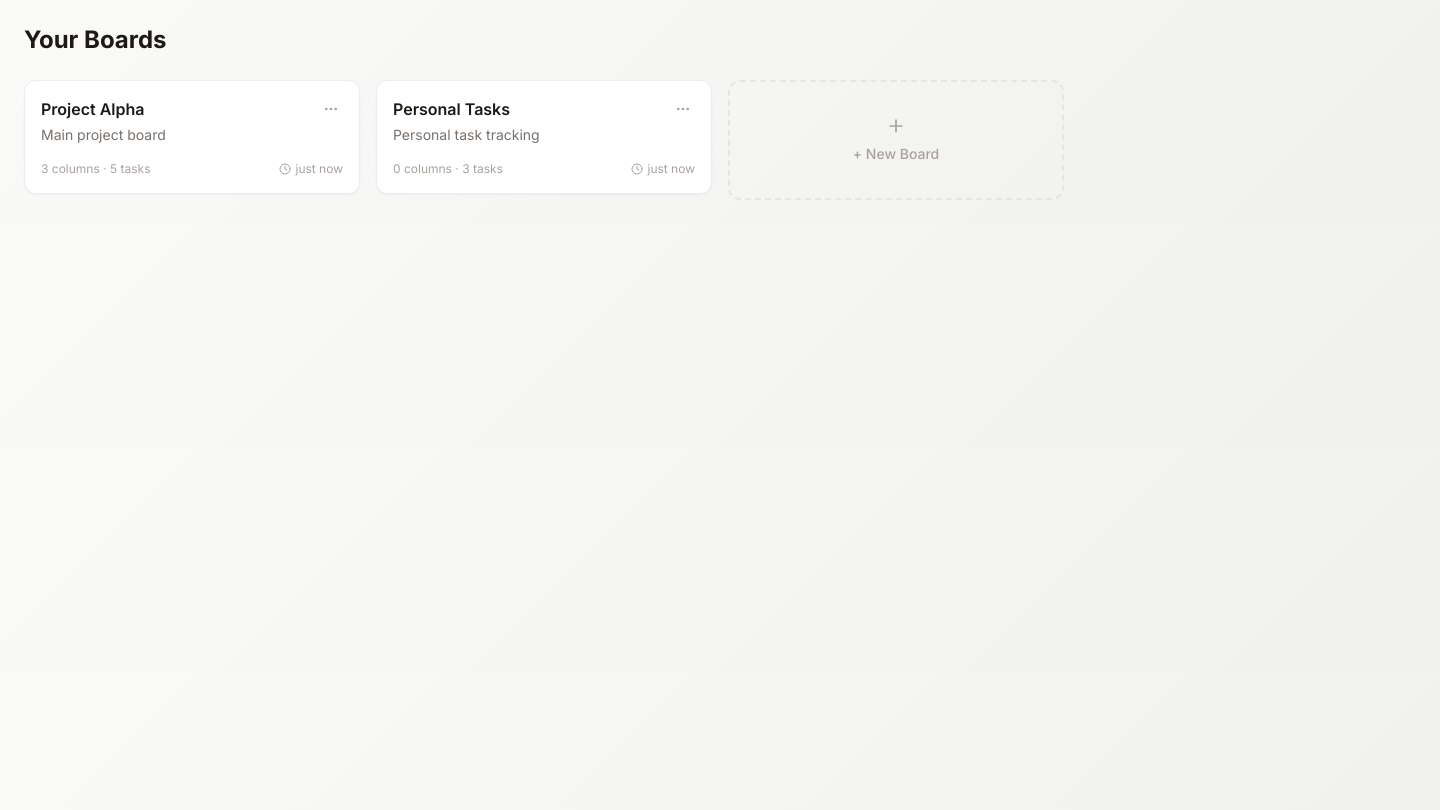
BoardList › inline board creation › creates board when form is submitted
The width and height of the screenshot is (1440, 810).
Expected: the heading "Project Alpha" is shown, 41,99 -> 144,119
Click the button with test id "ghost-card" at (896, 154), box 728,80 -> 1064,200
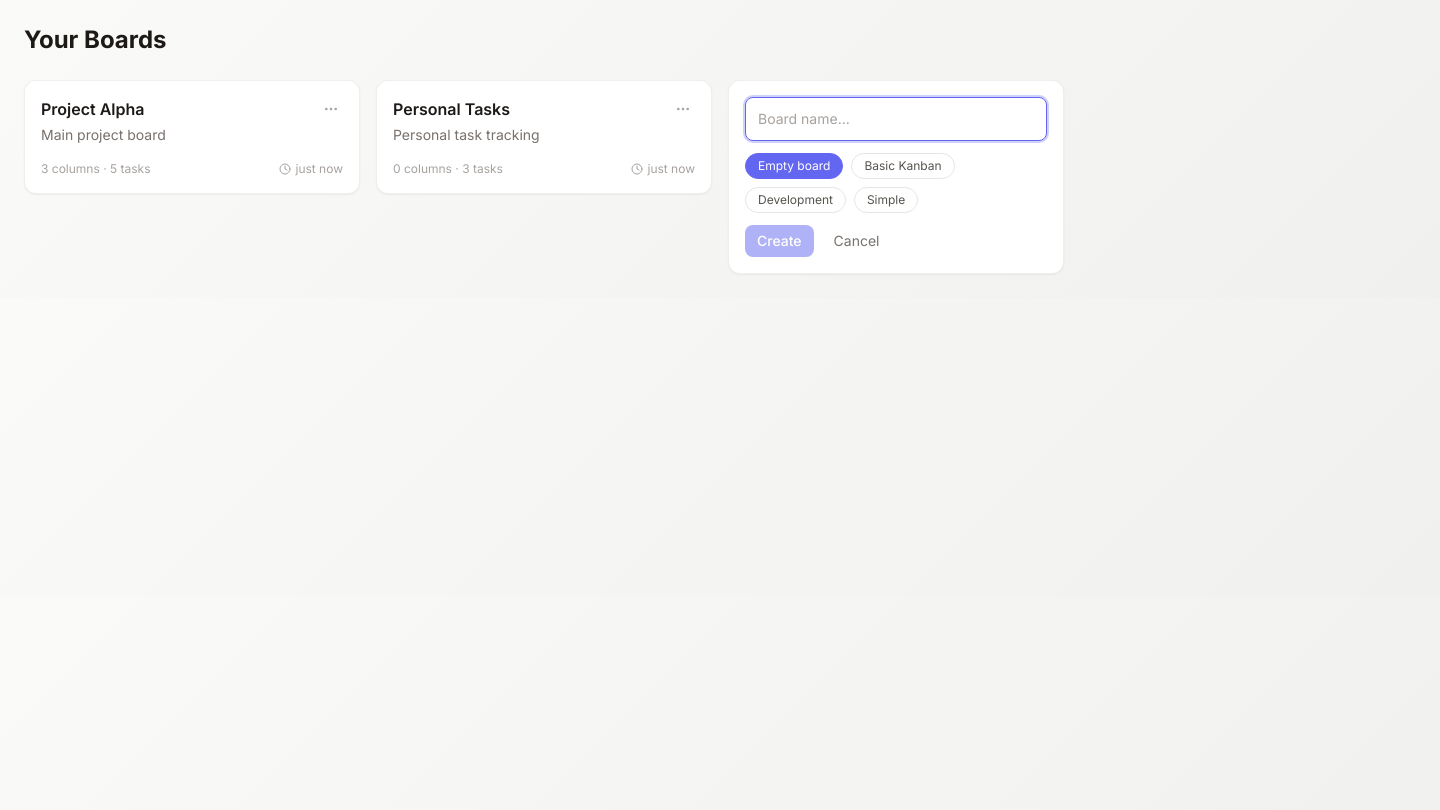
Type "New Test Board" into the field with placeholder "Board name..." at (896, 119), box 745,97 -> 1047,141
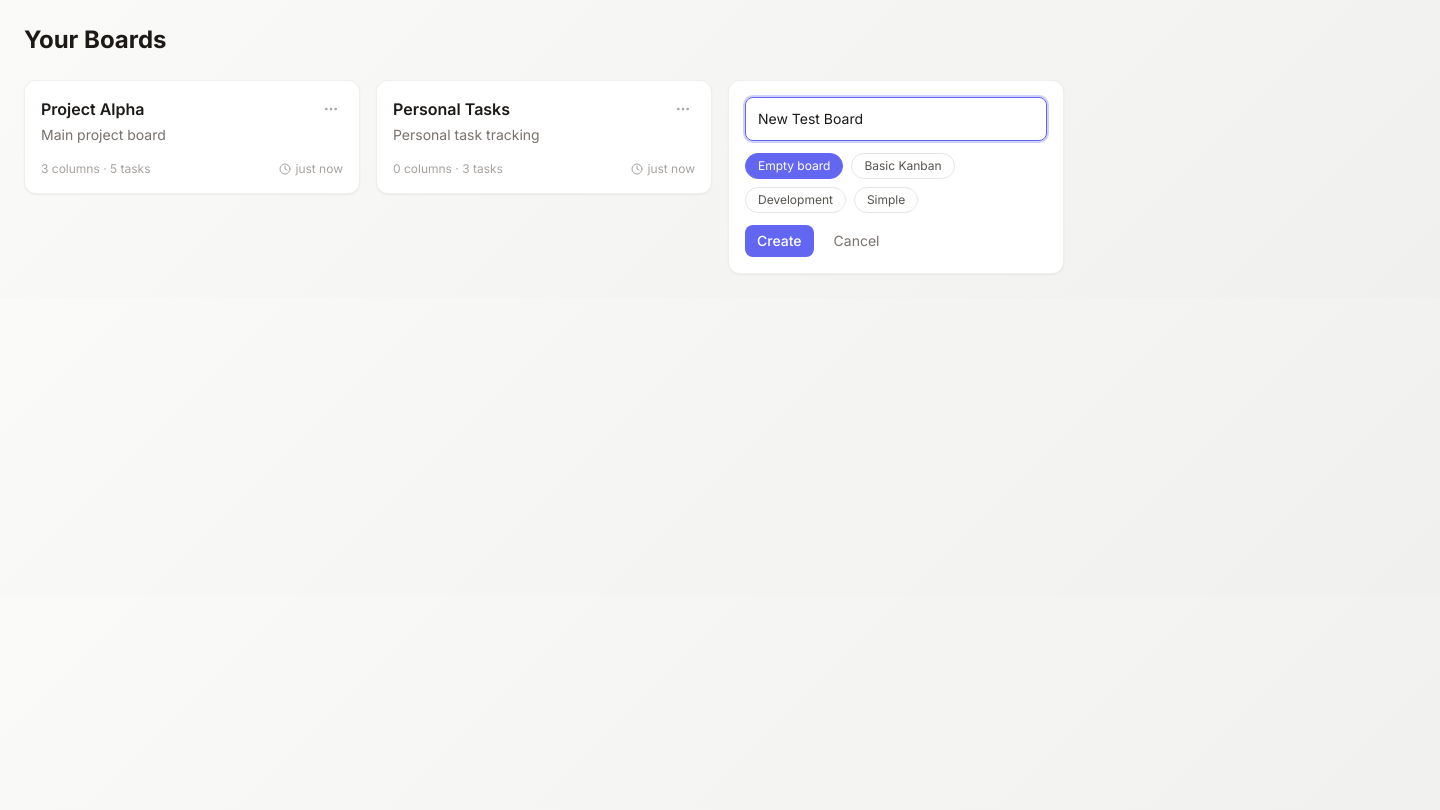
Click the button "Create" at (779, 241), box 745,225 -> 814,257
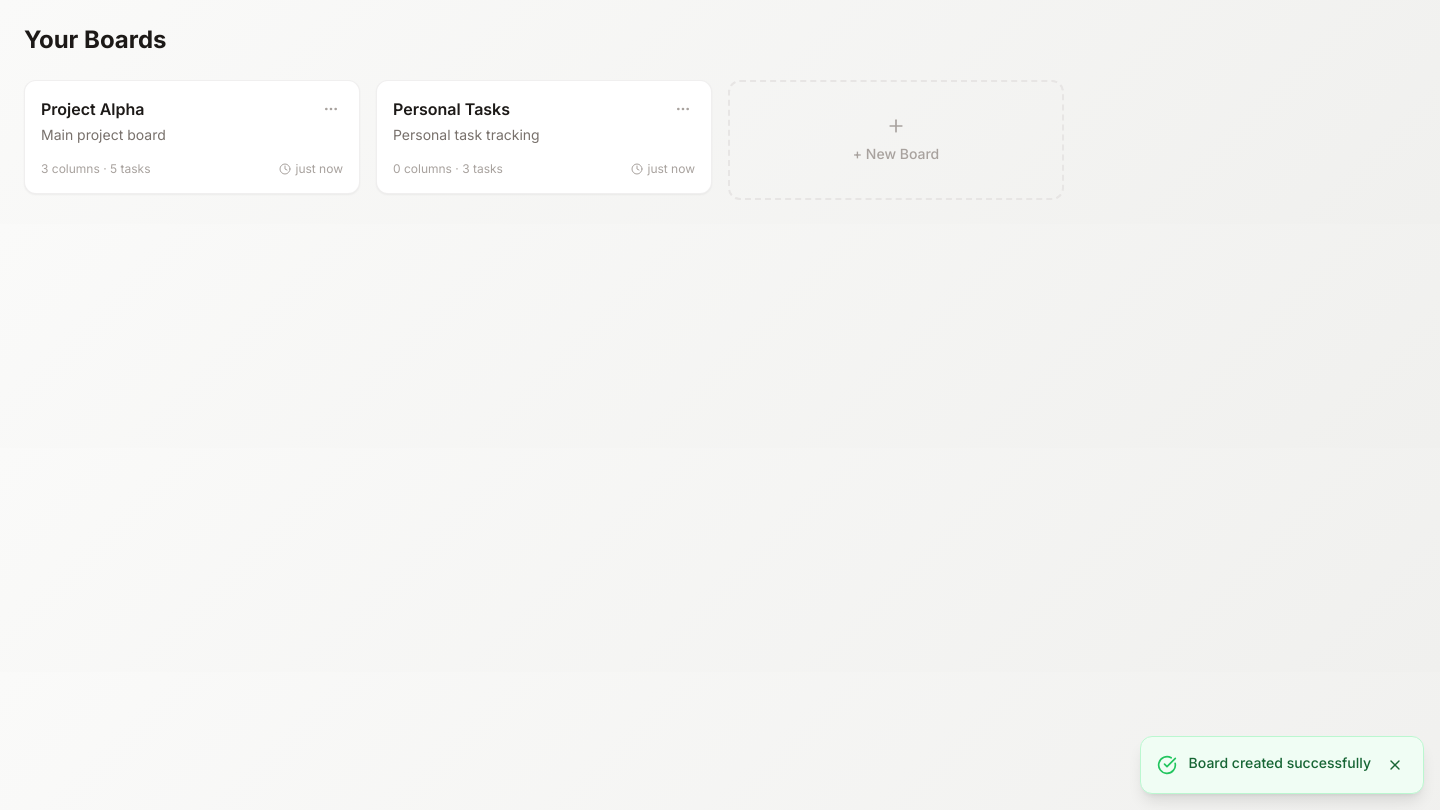
Expected: the element with test id "ghost-card-form" is gone
